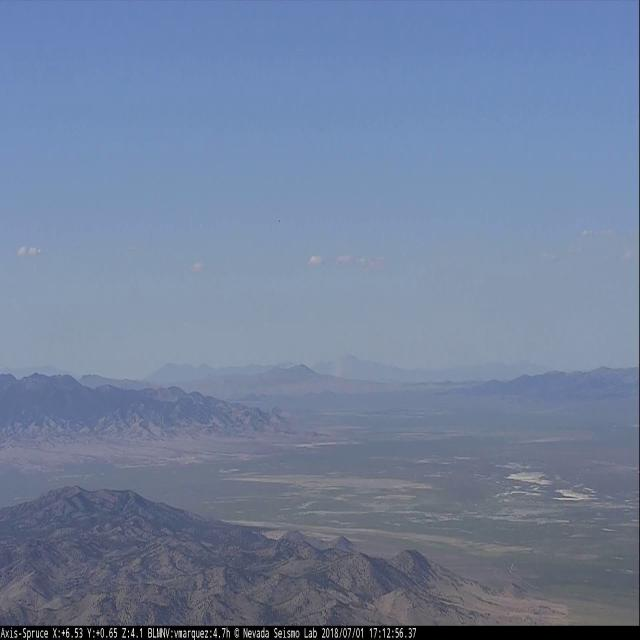smoke: (328, 333, 352, 378)
